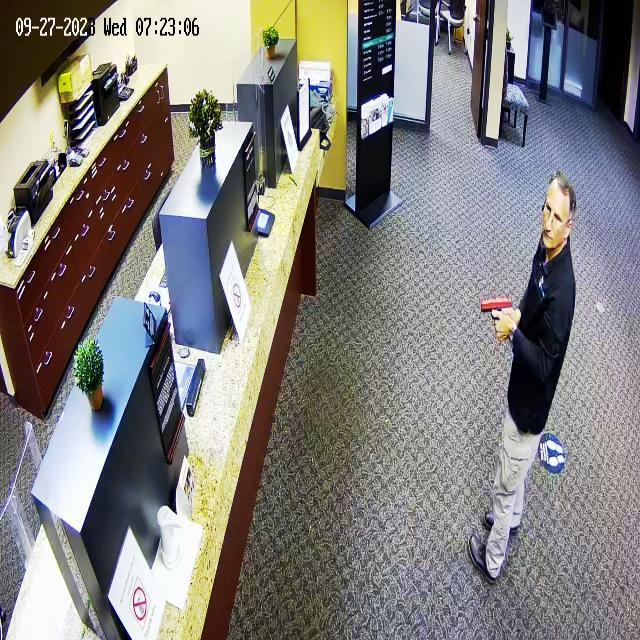Gun: (470, 282, 517, 330)
